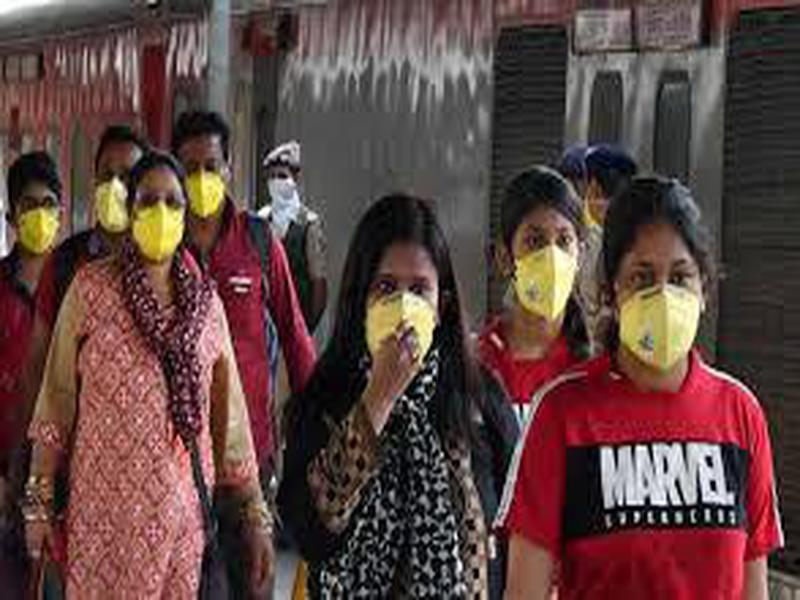with_mask: (613, 223, 710, 373), (363, 241, 437, 371), (510, 205, 580, 320), (131, 157, 190, 264), (181, 112, 231, 220), (92, 132, 133, 234), (12, 177, 63, 257), (265, 164, 303, 229)
